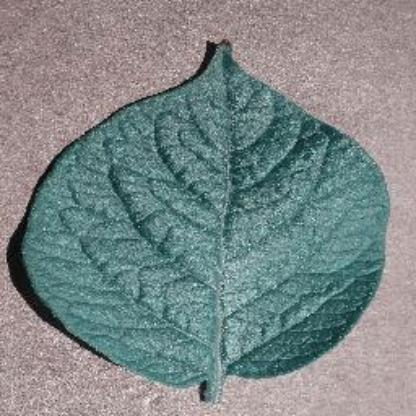Healthy-plant: (16, 27, 388, 405)
